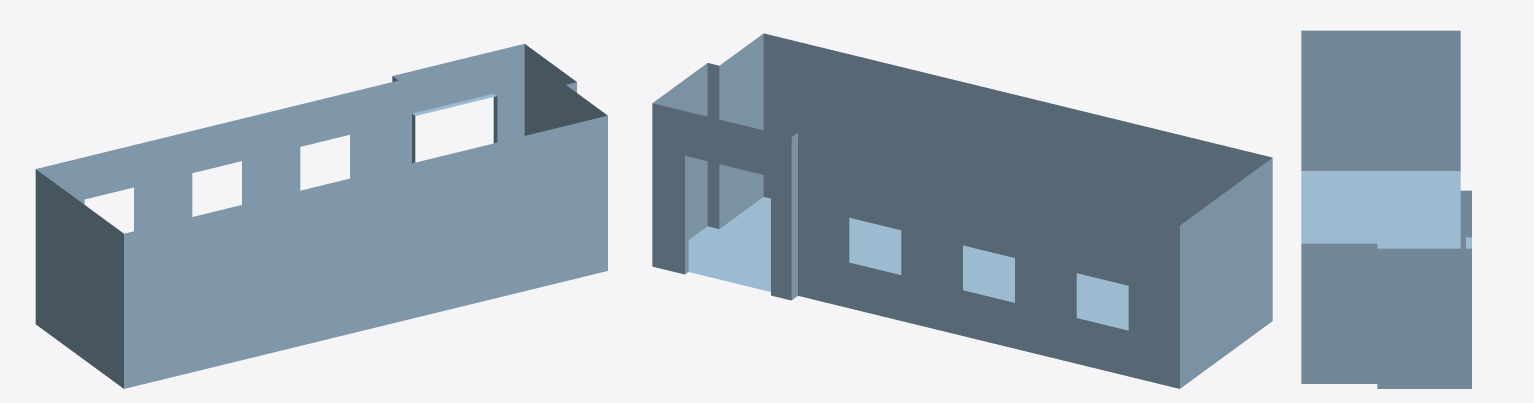
The model's file is Bld_C_low_L2_C.fbx.
The picture shows the model from 3 angles, left to right: view 1: azimuth 30°, elevation 25°; view 2: azimuth 150°, elevation 25°; view 3: azimuth 270°, elevation 25°; orthographic projection. The views are drawn at different scales.
Parts seen in each view (by area): view 1: Bld_C_low_L2_C_LOD0; view 2: Bld_C_low_L2_C_LOD0; view 3: Bld_C_low_L2_C_LOD0.
Part boxes in pixels (bbox=[...]): Bld_C_low_L2_C_LOD0: bbox=[35, 44, 607, 388]; Bld_C_low_L2_C_LOD0: bbox=[652, 33, 1272, 388]; Bld_C_low_L2_C_LOD0: bbox=[1301, 30, 1471, 388].
Size of what is drawn, in the model's own units: 1300 by 436 by 550.
Materials: 1 (1 with a texture image).
